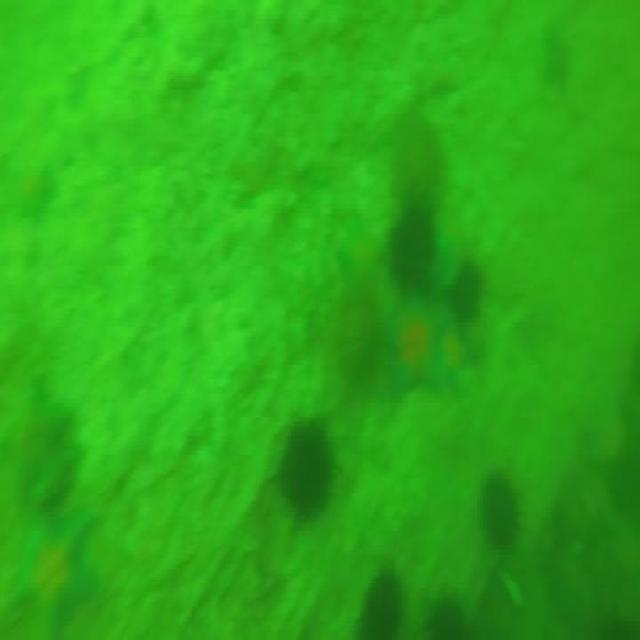echinus: (5, 501, 91, 627), (374, 283, 463, 404), (12, 386, 74, 524), (276, 419, 329, 517), (390, 199, 441, 300), (359, 572, 404, 640), (482, 472, 520, 550), (450, 253, 485, 321)
